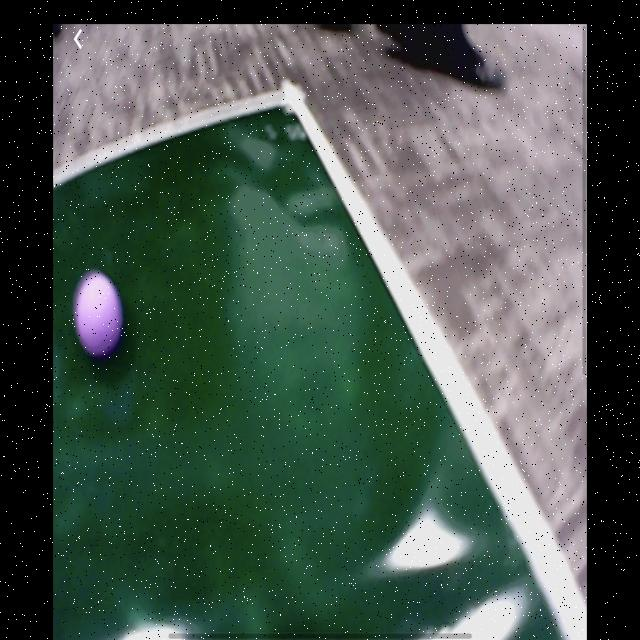ball: (77, 270, 122, 355)
